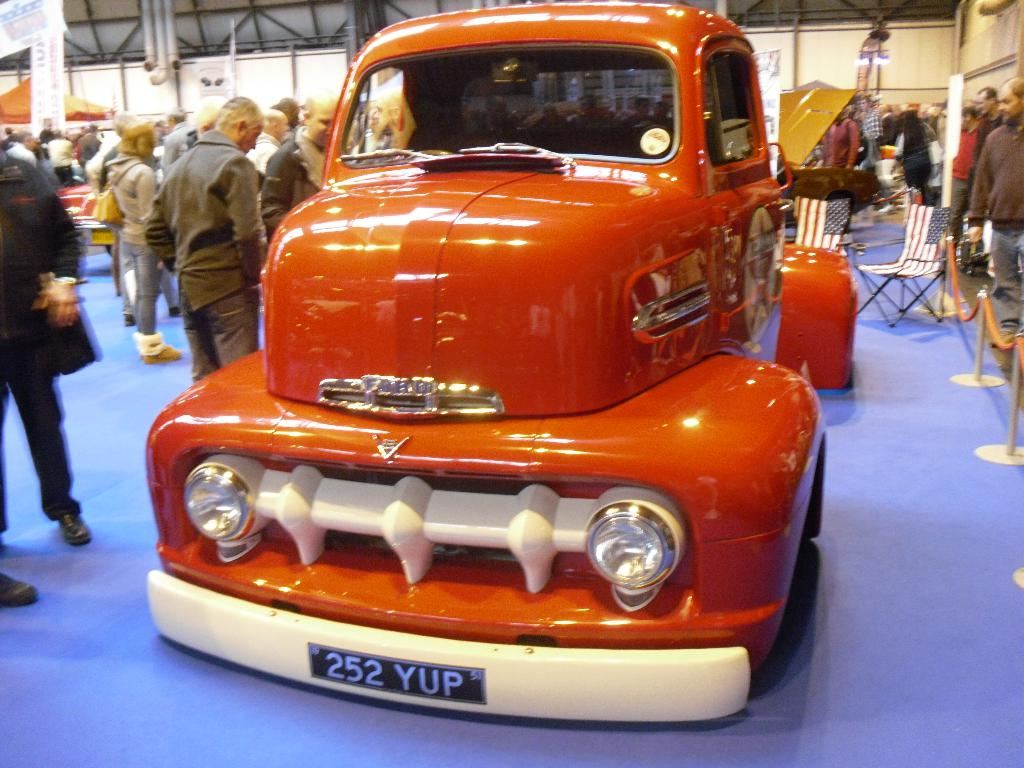truck: (109, 1, 870, 742)
